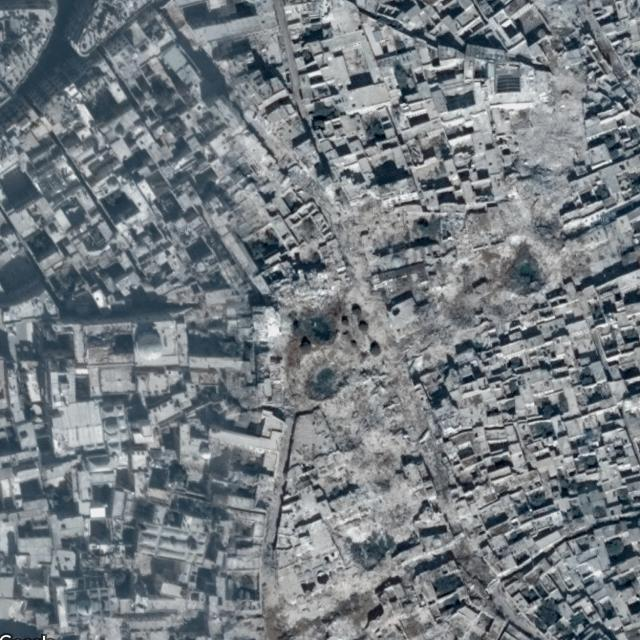damaged_building: (269, 69, 587, 640)
